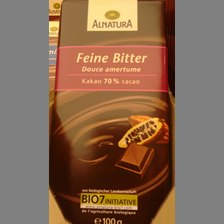chocolate: (54, 1, 169, 224)
